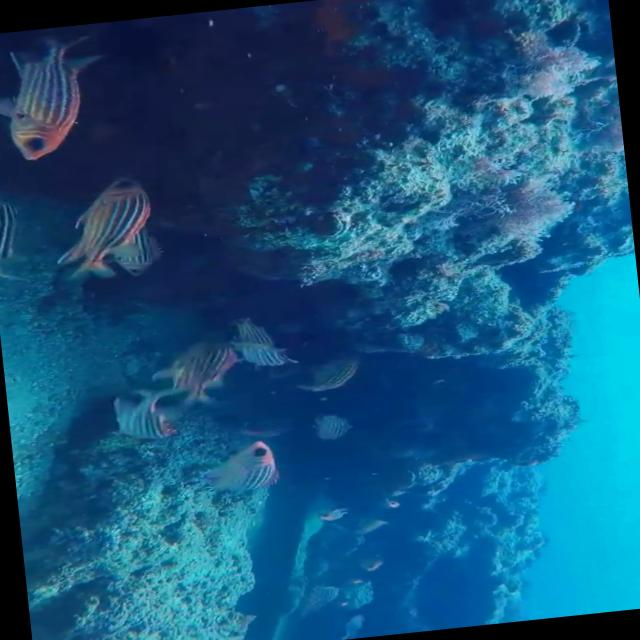Asker Baligi: (0, 31, 116, 165), (47, 173, 168, 284), (190, 434, 276, 512)
